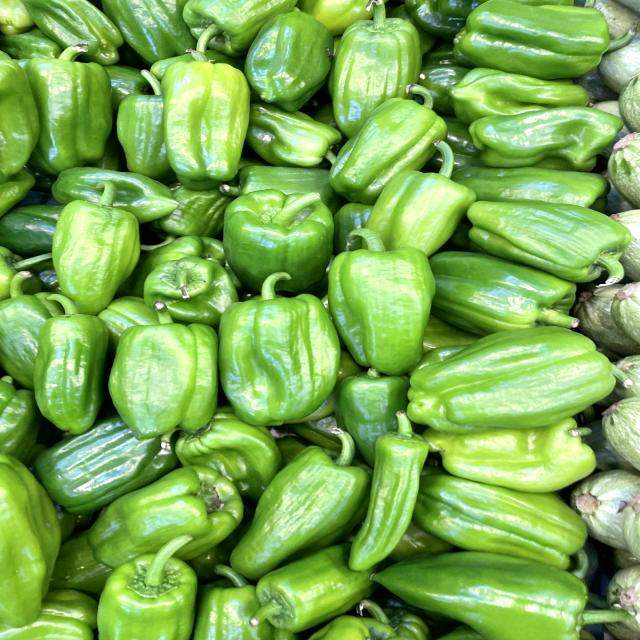bell pepper: (399, 322, 632, 438), (213, 269, 355, 430), (100, 296, 228, 443), (145, 42, 259, 193), (217, 181, 351, 296), (40, 185, 149, 315)
